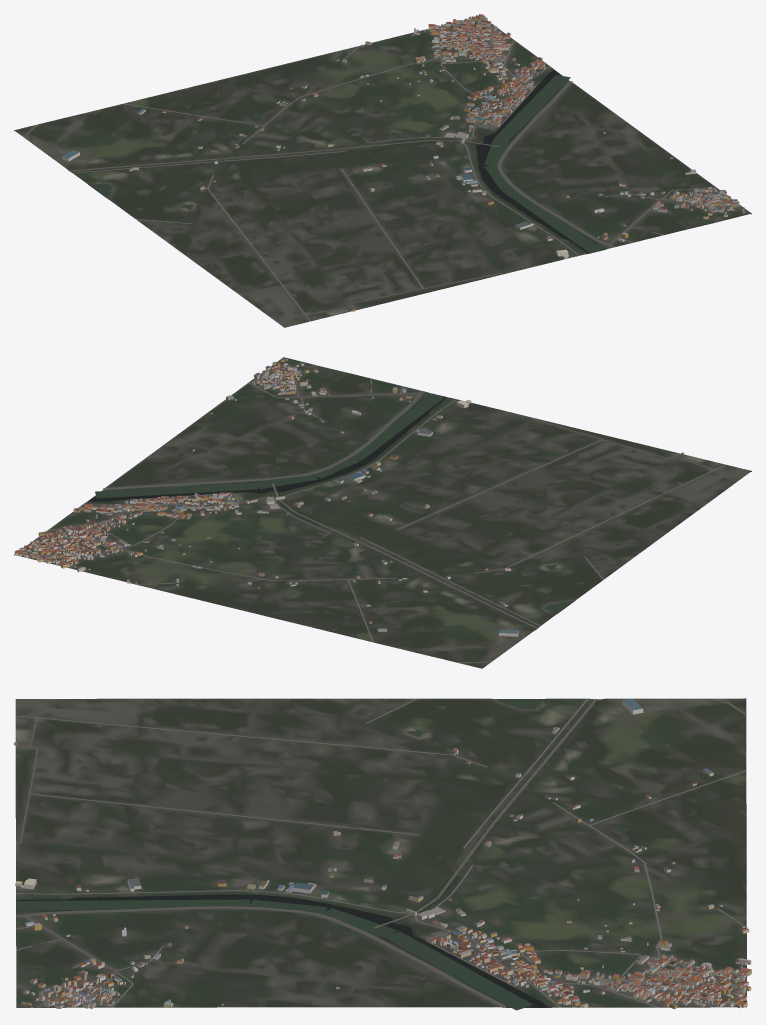
3 views of the same model, one above another, from view 1: azimuth 30°, elevation 25°; view 2: azimuth 150°, elevation 25°; view 3: azimuth 270°, elevation 25° (orthographic). The views are drawn at different scales.
Visible parts, largest first — view 1: ground, buildings, water, roads; view 2: ground, buildings, water, roads; view 3: ground, buildings, water, roads.
Part boxes in pixels (x1=…): ground: x1=14, y1=18, x2=751, y2=327; buildings: x1=62, y1=14, x2=744, y2=311; water: x1=69, y1=43, x2=603, y2=253; roads: x1=26, y1=20, x2=744, y2=321; ground: x1=14, y1=357, x2=751, y2=668; buildings: x1=14, y1=358, x2=684, y2=636; water: x1=88, y1=393, x2=572, y2=628; roads: x1=27, y1=362, x2=725, y2=662; ground: x1=15, y1=698, x2=746, y2=1007; buildings: x1=14, y1=698, x2=751, y2=1009; water: x1=16, y1=699, x2=709, y2=1010; roads: x1=15, y1=698, x2=747, y2=1007.
Bounding box in the file's own units: 1416 × 18.72 × 1416.
